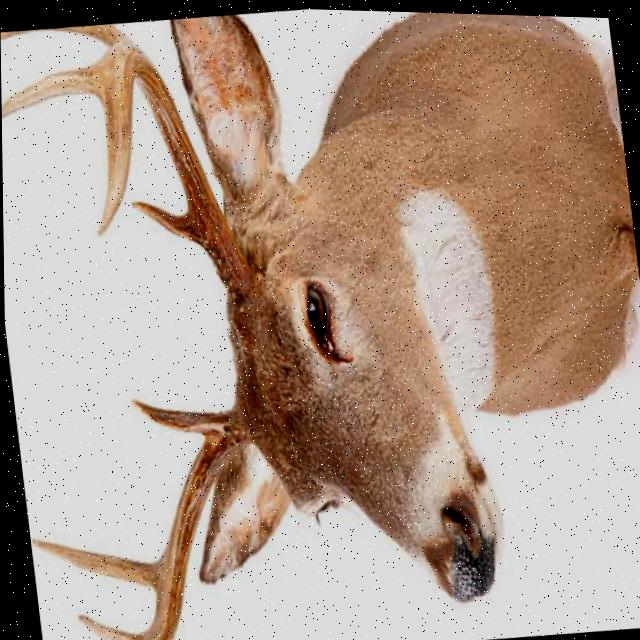L-F: (94, 38, 259, 305)
L-G1: (127, 200, 199, 245)
L-G2: (0, 23, 127, 46)
L-G3: (1, 56, 102, 117)
R-G1: (127, 397, 212, 439)
R-G2: (27, 538, 157, 593)
